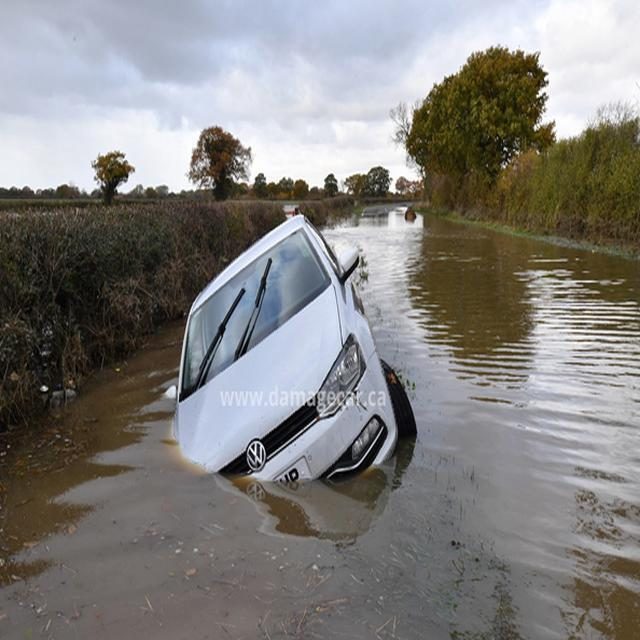Car-RiskLevel3: (151, 212, 452, 499)
